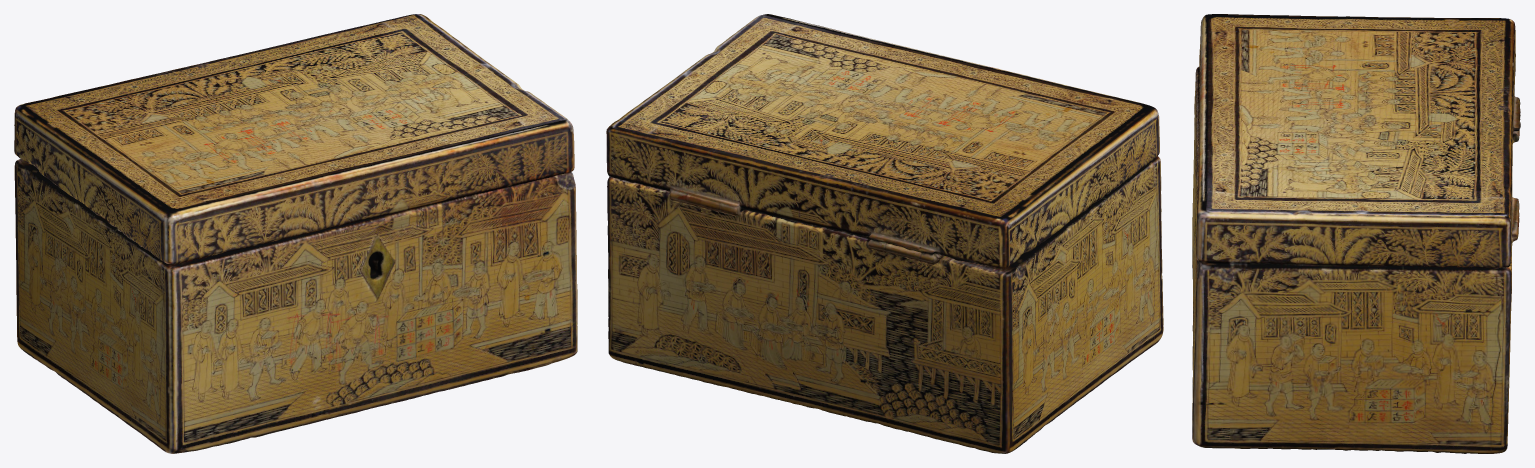
Rendered from 19世纪黑漆描金制茶贸易图茶叶罐.fbx.
The picture shows the model from 3 angles, left to right: view 1: azimuth 30°, elevation 25°; view 2: azimuth 150°, elevation 25°; view 3: azimuth 270°, elevation 25°; orthographic projection.
Visible parts, largest first — view 1: default; view 2: default; view 3: default.
Part boxes in pixels (x1,y1,x2,y2): default: (14,14,577,453); default: (606,14,1163,453); default: (1192,14,1520,453).
Size of the model in its own units: 62.28 by 43.21 by 35.53.
1 material, 1 textured.
